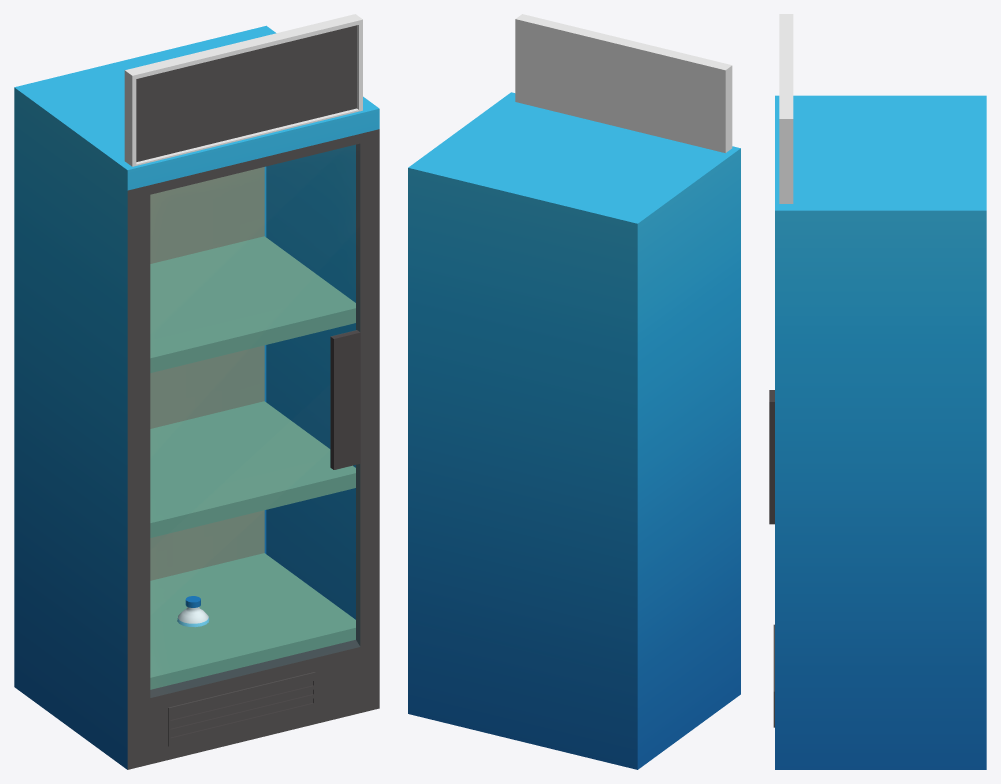
File: Fridge.fbx
3 views of the same model, side by side, from view 1: azimuth 30°, elevation 25°; view 2: azimuth 150°, elevation 25°; view 3: azimuth 270°, elevation 25° (orthographic). The views are drawn at different scales.
Parts seen in each view (by area): view 1: Fridge, Cube, Water; view 2: Fridge, Cube; view 3: Fridge, Cube.
Part boxes in pixels (x1,y1,x2,y2): Fridge: (14, 25, 379, 769); Cube: (124, 14, 362, 166); Water: (177, 596, 209, 627); Fridge: (408, 92, 740, 769); Cube: (515, 14, 732, 152); Fridge: (769, 95, 986, 769); Cube: (779, 14, 793, 203).
Bounding box in the file's own units: 129 × 337 × 103.
